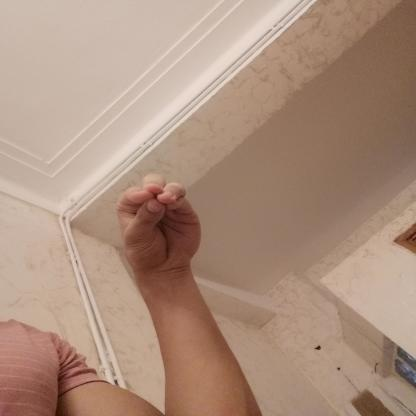HA: (100, 162, 216, 283)
